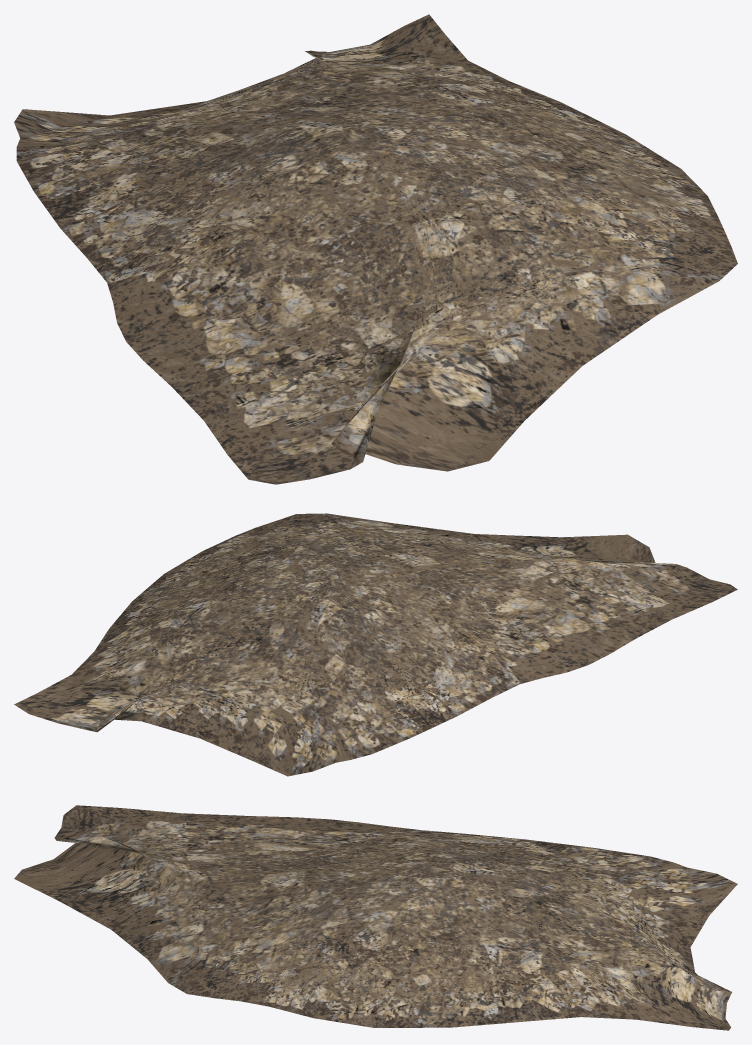
Rendered from Rubble.fbx.
3 renders of one model, top to bottom at view 1: azimuth 30°, elevation 25°; view 2: azimuth 150°, elevation 25°; view 3: azimuth 270°, elevation 25°, orthographic. The views are drawn at different scales.
Parts seen in each view (by area): view 1: Rubble; view 2: Rubble; view 3: Rubble.
Boxes of the visible parts, bbox=[...] form: Rubble: bbox=[14, 14, 737, 484]; Rubble: bbox=[14, 513, 737, 776]; Rubble: bbox=[14, 805, 737, 1030].
Bounding box in the file's own units: 737 × 109 × 970.
